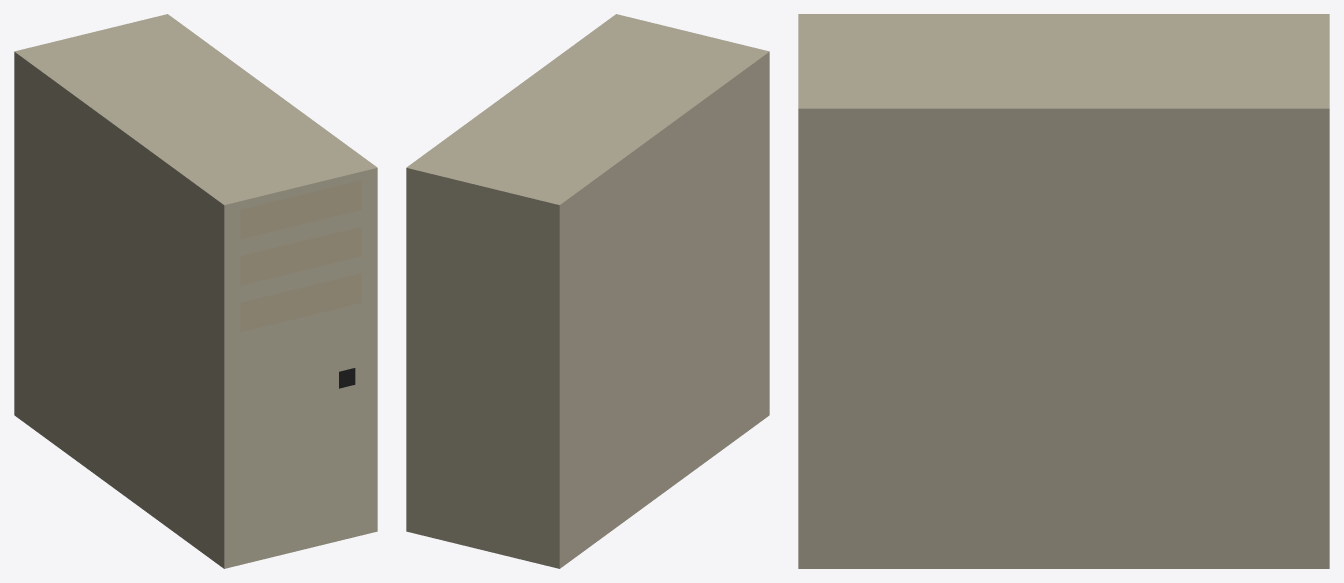
Rendered from prop_pc_case.obj.
3 views of the same model, side by side, from view 1: azimuth 30°, elevation 25°; view 2: azimuth 150°, elevation 25°; view 3: azimuth 270°, elevation 25° (orthographic). The views are drawn at different scales.
Parts seen in each view (by area): view 1: prop_pc_case; view 2: prop_pc_case; view 3: prop_pc_case.
Boxes of the visible parts, left/top/right/bottom form: prop_pc_case: left=14, top=14, right=377, bottom=568; prop_pc_case: left=406, top=14, right=769, bottom=568; prop_pc_case: left=798, top=14, right=1329, bottom=568.
Size of the model in its own units: 0.19 by 0.43 by 0.45.
